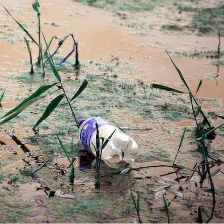bottle: (73, 110, 142, 171)
